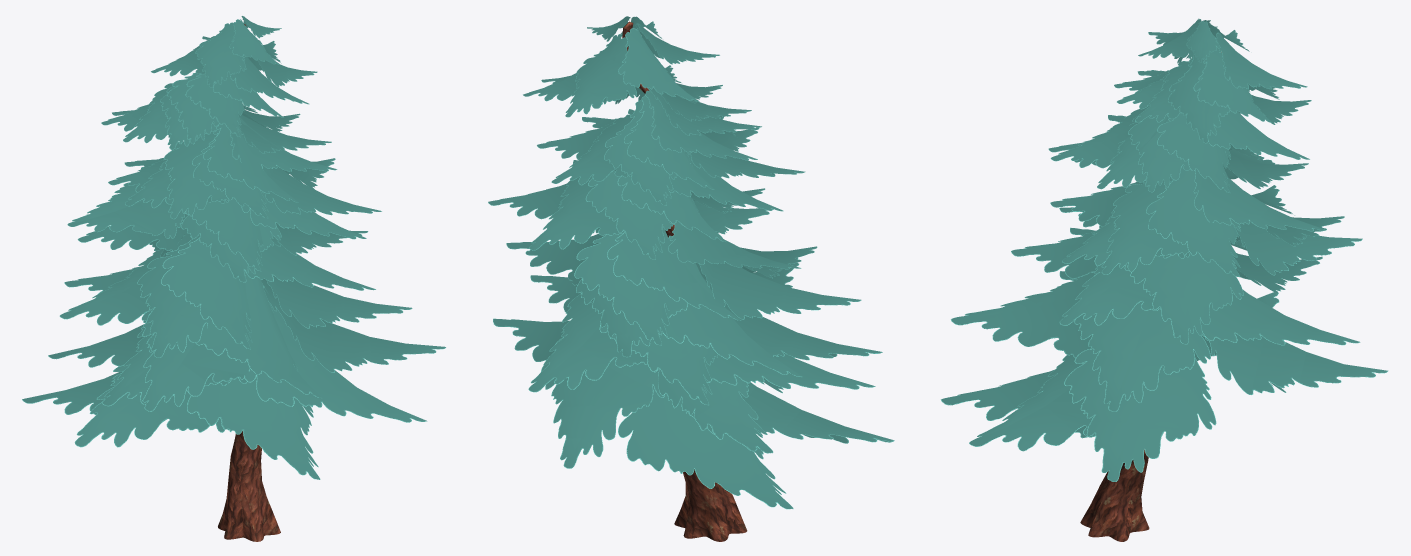
File: gtree_pine_5.glb
The picture shows the model from 3 angles, left to right: view 1: azimuth 30°, elevation 25°; view 2: azimuth 150°, elevation 25°; view 3: azimuth 270°, elevation 25°; orthographic projection. The views are drawn at different scales.
Visible parts, largest first — view 1: model; view 2: model; view 3: model.
Boxes of the visible parts, bbox=[...] form: model: bbox=[22, 16, 445, 541]; model: bbox=[488, 16, 894, 541]; model: bbox=[941, 18, 1388, 541].
Bounding box in the file's own units: 6.43 × 7.8 × 6.23.
2 materials, 2 textured.
